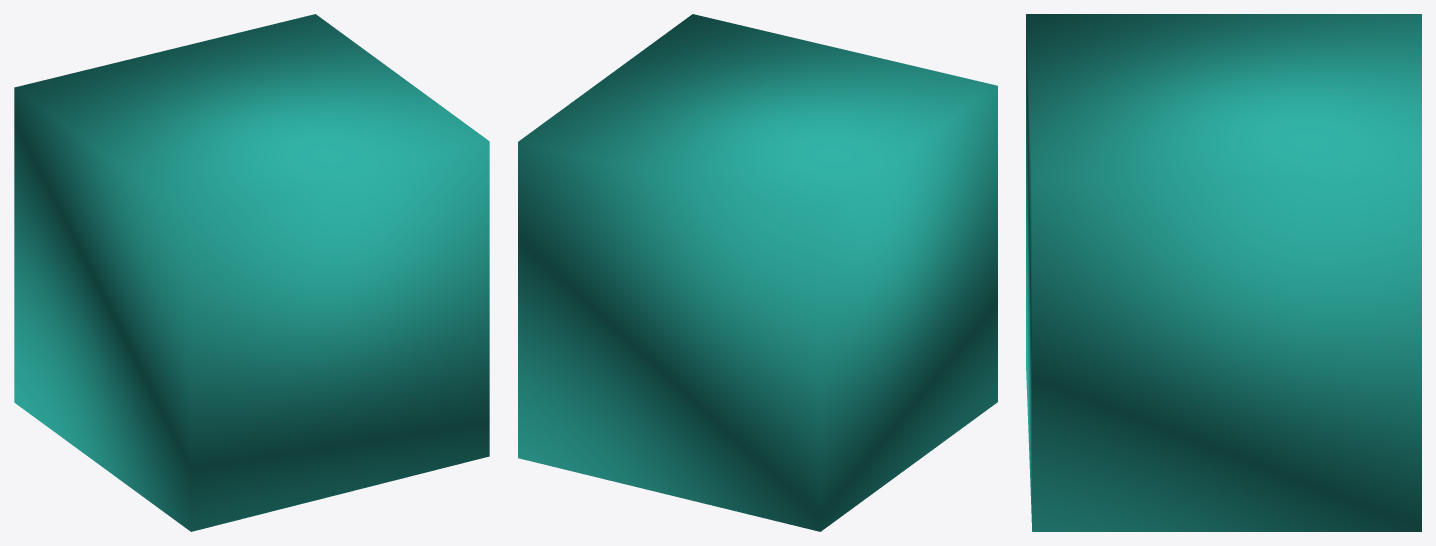
File: WallTile.fbx
The picture shows the model from 3 angles, left to right: view 1: azimuth 30°, elevation 25°; view 2: azimuth 150°, elevation 25°; view 3: azimuth 270°, elevation 25°; orthographic projection. The views are drawn at different scales.
Parts seen in each view (by area): view 1: WallTile:Box002; view 2: WallTile:Box002; view 3: WallTile:Box002.
Part boxes in pixels (x1=…): WallTile:Box002: x1=14, y1=14, x2=489, y2=531; WallTile:Box002: x1=518, y1=14, x2=997, y2=531; WallTile:Box002: x1=1026, y1=14, x2=1421, y2=531.
Bounding box in the file's own units: 39.37 × 39.37 × 39.99.
